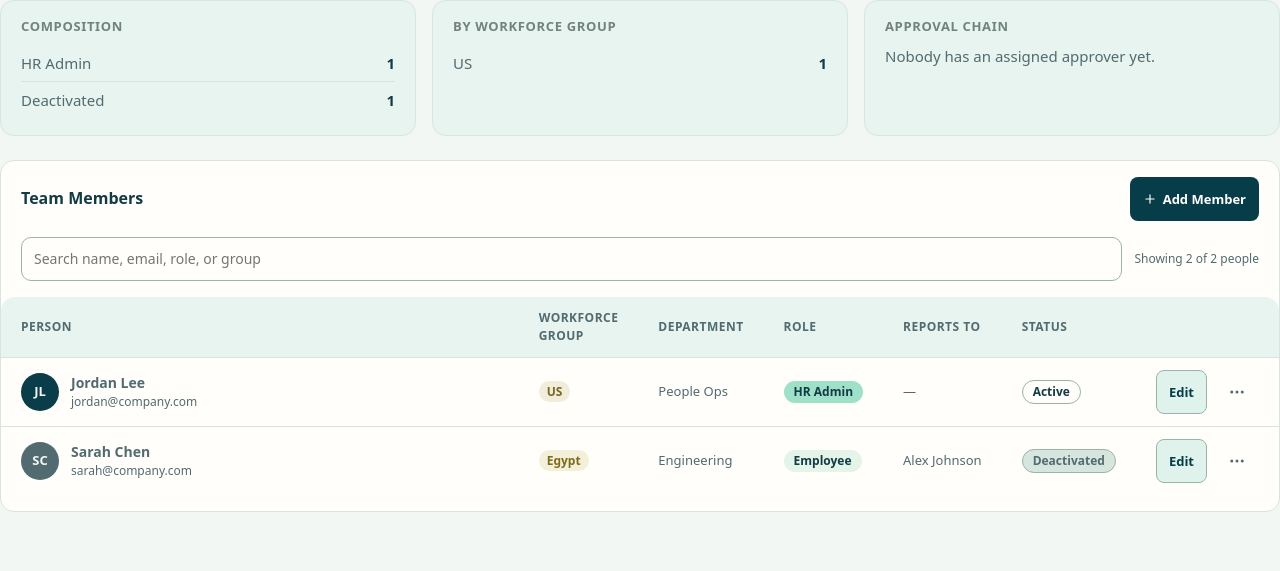
Test case: TeamMembersCard › [P0][Story 8.5] renders active and deactivated status labels while keeping both rows visible
This screenshot has width=1280, height=571.
Expected: the text "Jordan Lee" is shown, [71,373,145,392]
Expected: the text "Sarah Chen" is shown, [71,442,150,461]
Click the button named "More actions: Jordan Lee" at (1237, 392), box [1215,370,1259,414]
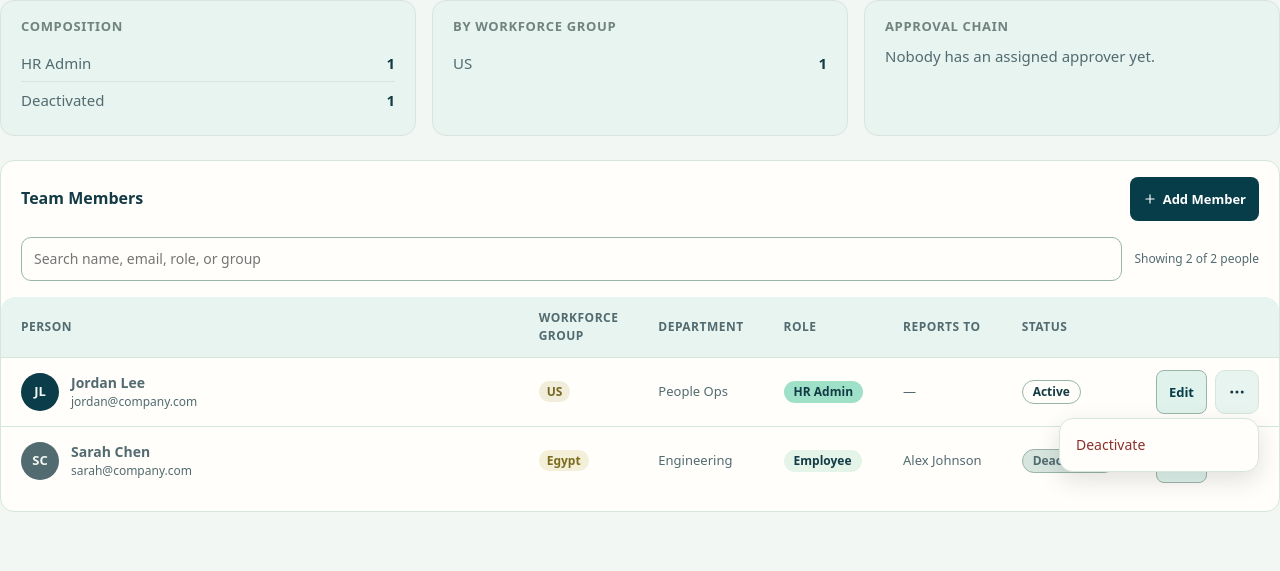
Expected: the menu item with test id "deactivate-member-1" is shown, [1060,422,1258,466]
Press Escape
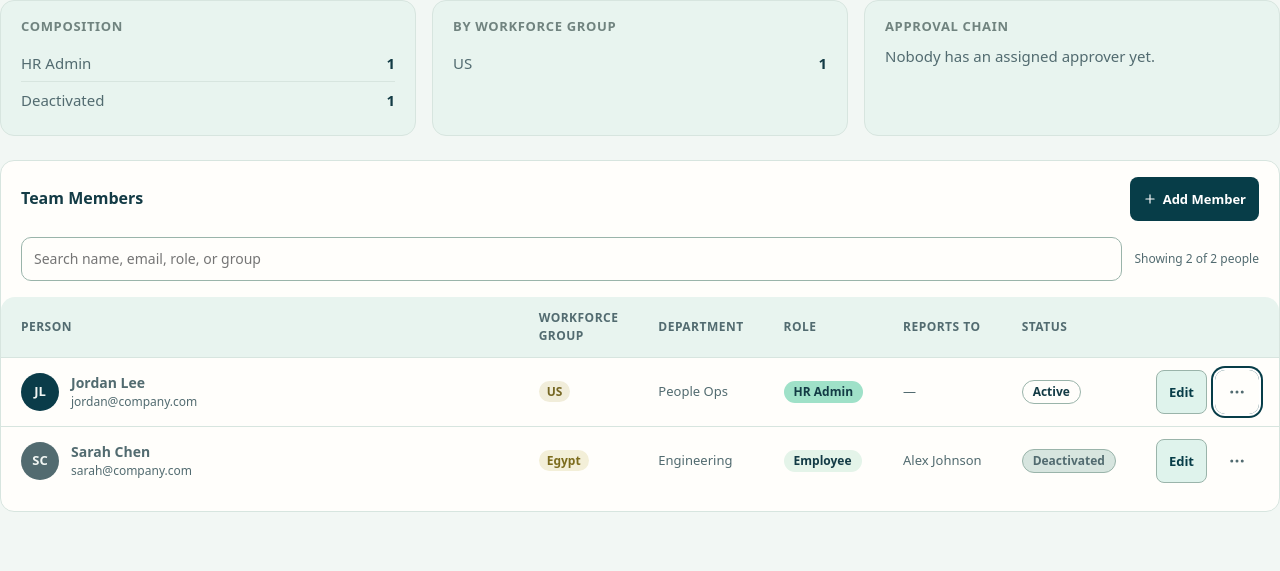
Click the button named "More actions: Sarah Chen" at (1237, 460), box [1215,438,1259,482]
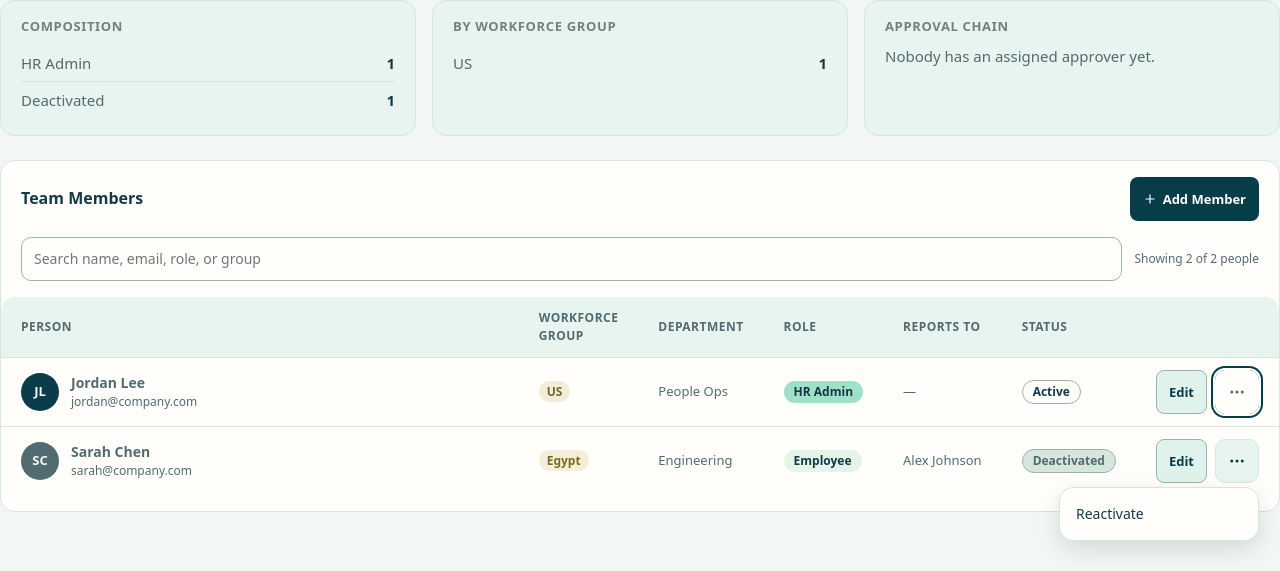
Expected: the menu item with test id "reactivate-member-2" is shown, [1060,492,1258,536]
